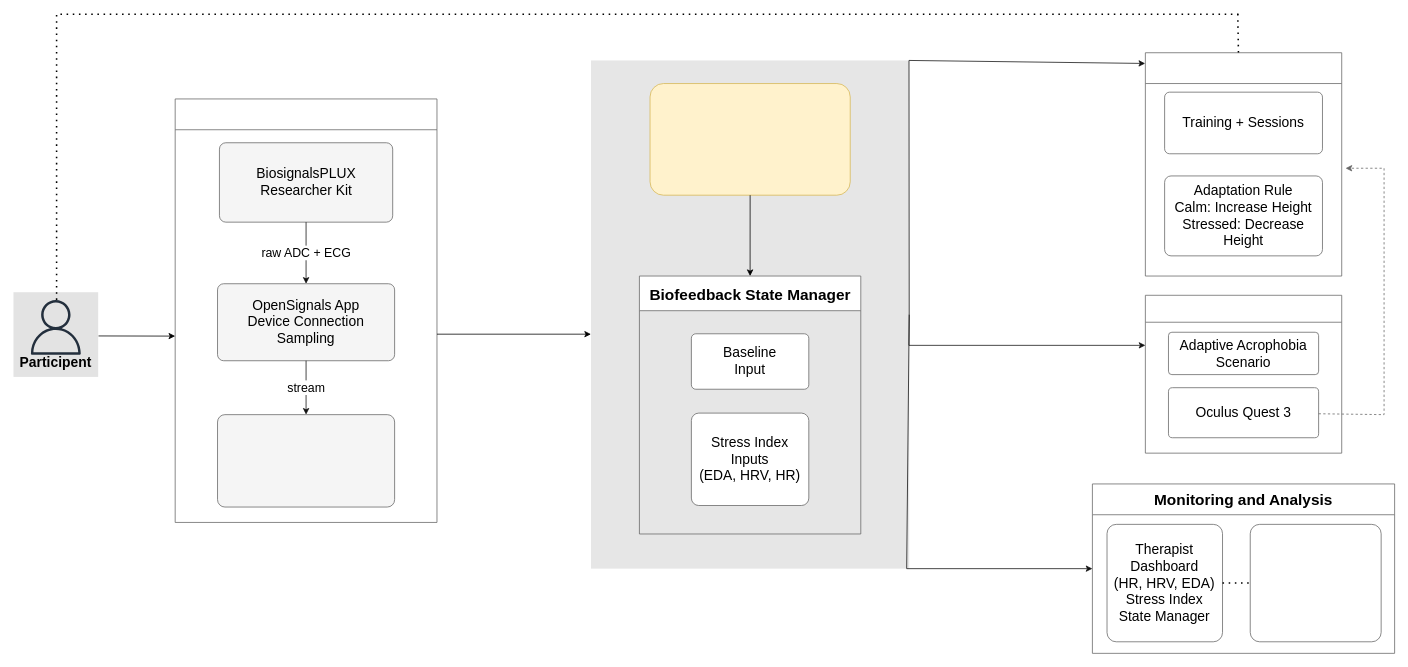
Image size: 1408x667. Some labels were removed from this diagram. The box of each missing label's shape, as (x1, y1, x2, y2) in pixels:
Acquisition Layer: (174, 98, 437, 522)
Data Logger / CSV Timestamp Stress Index HR, HRV, EDA State + Session: (1249, 524, 1381, 642)
Python Middleware HR, HRV/RMSSD, EDA Baseline: (217, 414, 395, 507)
Therapy Control: (1145, 52, 1342, 276)
Unity Interactive Session Core: (649, 83, 850, 195)
VR Exposure Output: (1145, 295, 1342, 453)
